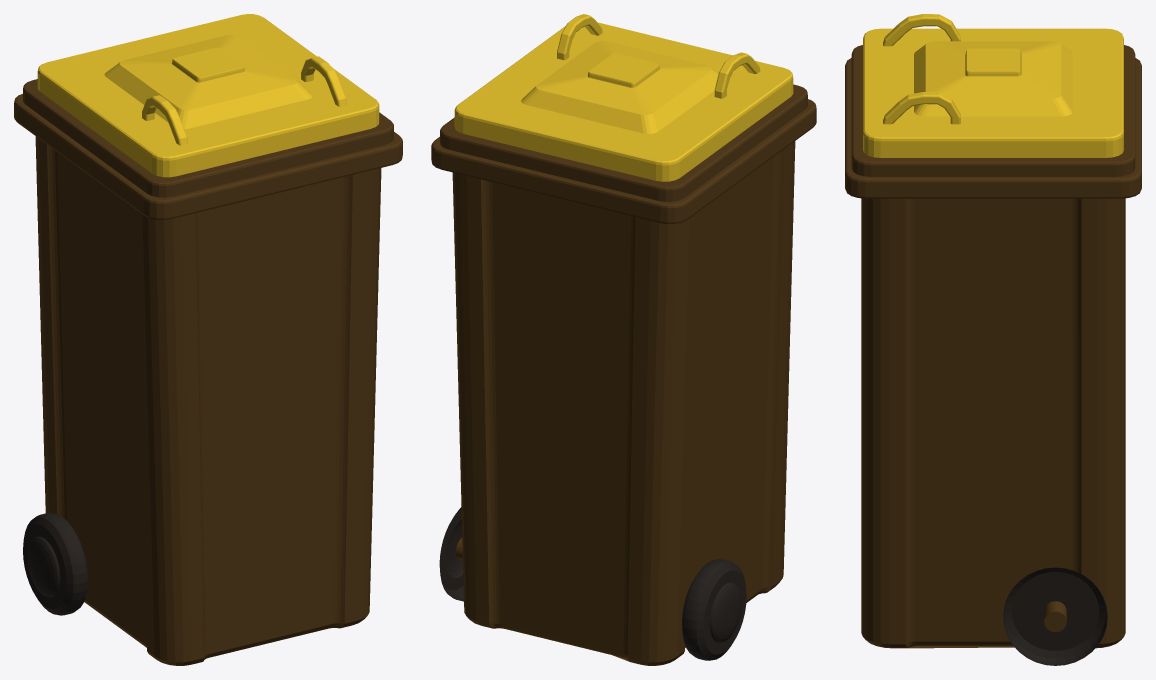
The model's file is Vuilnisbak_berlin.fbx.
3 views of the same model, side by side, from view 1: azimuth 30°, elevation 25°; view 2: azimuth 150°, elevation 25°; view 3: azimuth 270°, elevation 25° (orthographic).
Parts seen in each view (by area): view 1: Cube.002, Cube.005, Cube.007, Cube.003, Cube.004, Cylinder.005, Cube.006; view 2: Cube.002, Cube.005, Cube.007, Cube.003, Cube.004, Cylinder.005, Cube.006, Cylinder.006; view 3: Cube.002, Cube.005, Cube.007, Cube.003, Cube.004, Cylinder.006, Cube.006, Cylinder.007.
Part boxes in pixels (x1,y1,x2,y2): Cube.002: (35, 136, 381, 665); Cube.005: (37, 14, 379, 177); Cube.007: (104, 35, 312, 129); Cube.003: (14, 94, 402, 220); Cube.004: (23, 79, 393, 197); Cylinder.005: (23, 513, 88, 615); Cube.006: (142, 56, 347, 145); Cube.002: (452, 141, 795, 665); Cube.005: (454, 22, 793, 181); Cube.007: (521, 40, 718, 133); Cube.003: (431, 99, 816, 224); Cube.004: (440, 84, 807, 201); Cylinder.005: (682, 559, 746, 660); Cube.006: (557, 14, 760, 98); Cylinder.006: (439, 507, 463, 601); Cube.002: (861, 198, 1125, 648); Cube.005: (863, 28, 1123, 157); Cube.007: (914, 41, 1072, 116); Cube.003: (845, 58, 1141, 198); Cube.004: (851, 45, 1135, 176); Cylinder.006: (1003, 567, 1107, 665); Cube.006: (883, 14, 960, 124); Cylinder.007: (1044, 601, 1066, 632).
Size of the model in its own units: 218 by 409 by 200.
